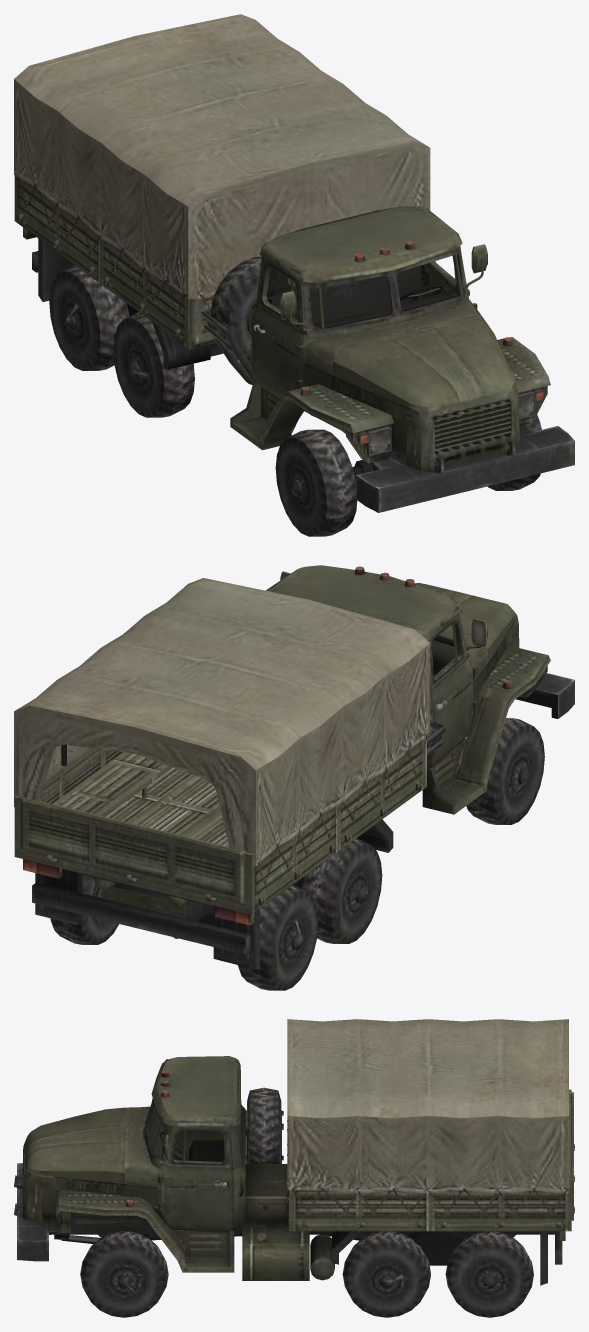
File: truck.glb
3 views of the same model, one above another, from view 1: azimuth 30°, elevation 25°; view 2: azimuth 150°, elevation 25°; view 3: azimuth 270°, elevation 25° (orthographic). The views are drawn at different scales.
Parts seen in each view (by area): view 1: vehicle; view 2: vehicle; view 3: vehicle.
Part boxes in pixels (box(x1,y1,x2,y2)): vehicle: box(14, 14, 574, 536); vehicle: box(14, 565, 574, 990); vehicle: box(14, 1019, 574, 1317).
Size of the model in its own units: 2.98 by 3.19 by 7.37.
1 material, 1 textured.
